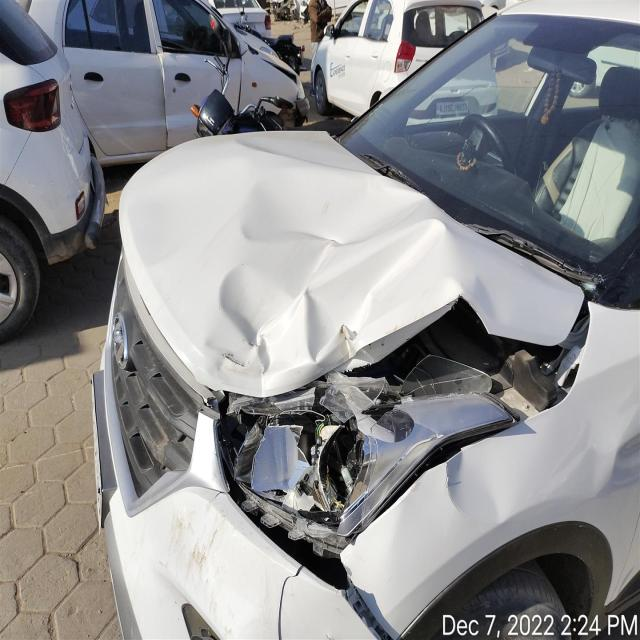damage: (203, 164, 537, 395), (217, 355, 520, 590), (445, 384, 640, 525), (335, 582, 400, 640), (275, 564, 309, 640)
